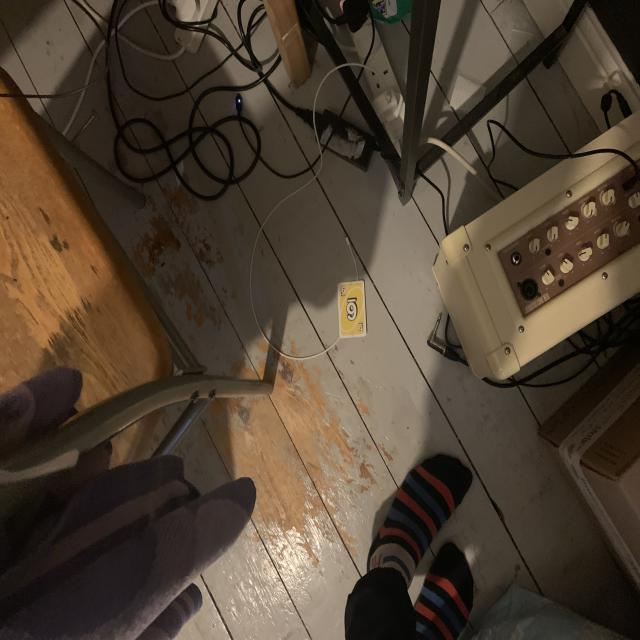lyellow-6: (340, 286, 347, 298)
